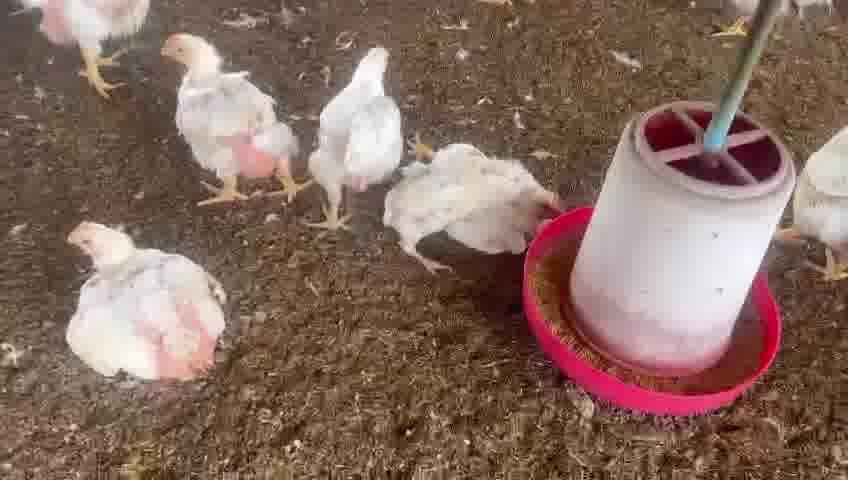AbNormal: (64, 223, 221, 380), (387, 136, 560, 267)
Normal: (161, 32, 304, 204), (313, 49, 394, 234), (18, 3, 150, 98), (795, 119, 848, 281)
